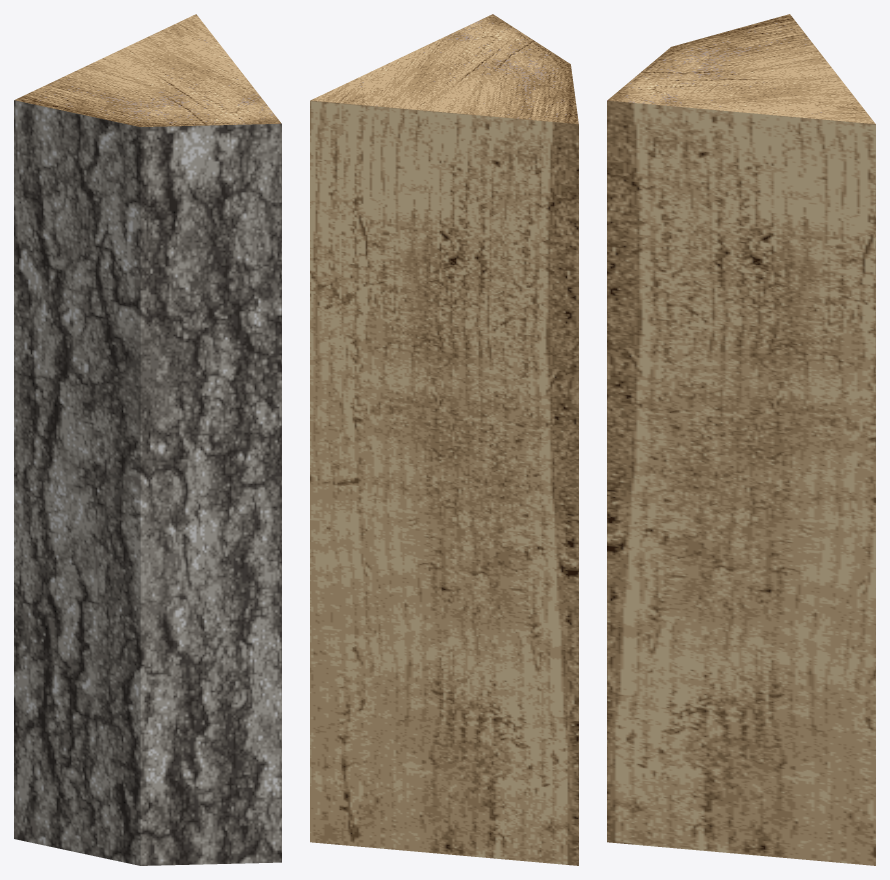
Rendered from small-log.glb.
3 renders of one model, left to right at view 1: azimuth 30°, elevation 25°; view 2: azimuth 150°, elevation 25°; view 3: azimuth 270°, elevation 25°, orthographic.
Parts seen in each view (by area): view 1: Cylinder; view 2: Cylinder; view 3: Cylinder.
Boxes of the visible parts, x1,y1,x2,y2 form: Cylinder: (14,14,281,865); Cylinder: (310,14,578,865); Cylinder: (607,14,875,865).
Size of the model in its own units: 0.5722 by 1.8 by 0.5898.
Materials: 3 (3 with a texture image).
